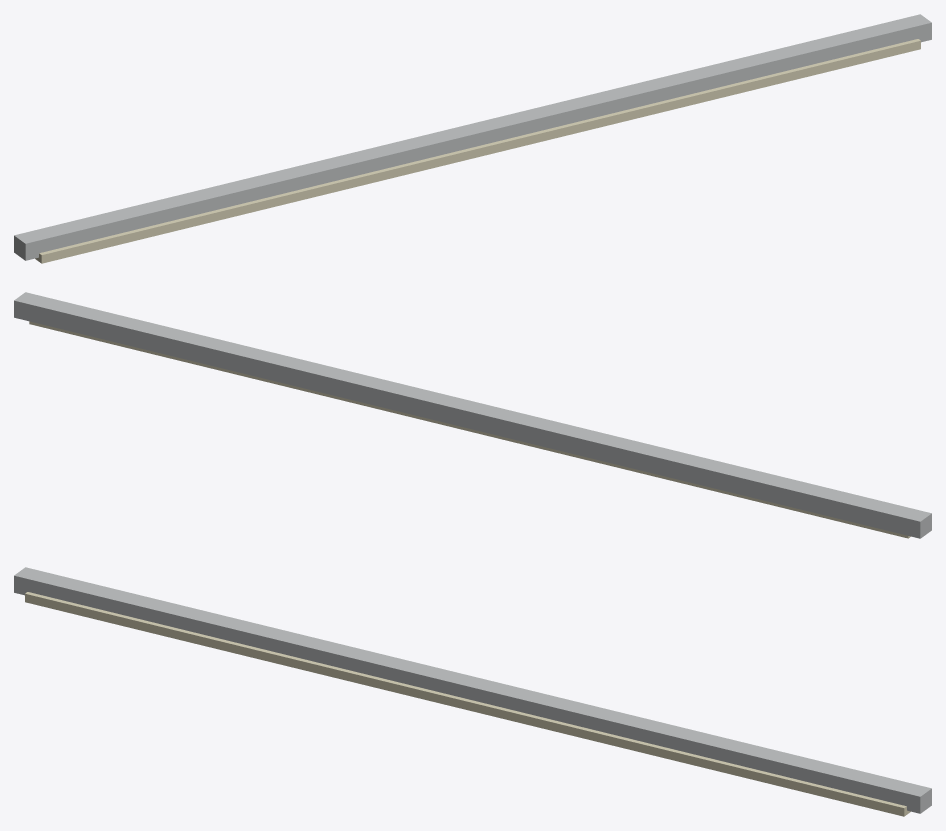
Rendered from led-strip.glb.
The picture shows the model from 3 angles, top to bottom: view 1: azimuth 30°, elevation 25°; view 2: azimuth 150°, elevation 25°; view 3: azimuth 330°, elevation 25°; orthographic projection.
Visible parts, largest first — view 1: led_channel, led_diffuser; view 2: led_channel, led_diffuser; view 3: led_channel, led_diffuser.
Part boxes in pixels (x1,y1,x2,y2): led_channel: (14,14,931,260); led_diffuser: (35,39,920,263); led_channel: (14,292,931,538); led_diffuser: (29,321,910,538); led_channel: (14,567,931,813); led_diffuser: (25,592,910,816).
Size of the model in its own units: 1 by 0.0225 by 0.027.
